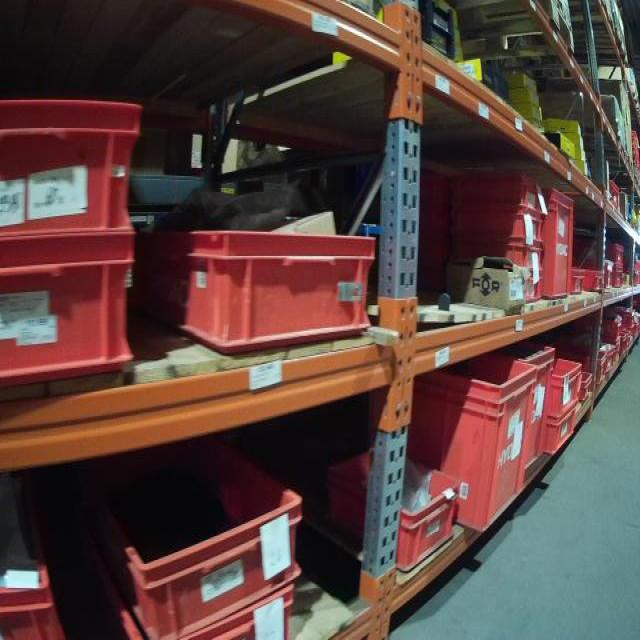pallet: (424, 2, 577, 71)
small_load_carrier: (81, 452, 303, 631), (149, 221, 374, 352), (2, 231, 142, 396), (2, 95, 150, 246), (406, 365, 532, 537), (320, 430, 463, 576), (109, 573, 315, 639), (2, 476, 68, 636), (423, 163, 549, 211), (518, 350, 563, 468), (454, 243, 540, 292), (449, 206, 539, 249), (538, 187, 573, 296), (548, 352, 585, 398), (544, 403, 579, 449), (579, 259, 602, 292)
